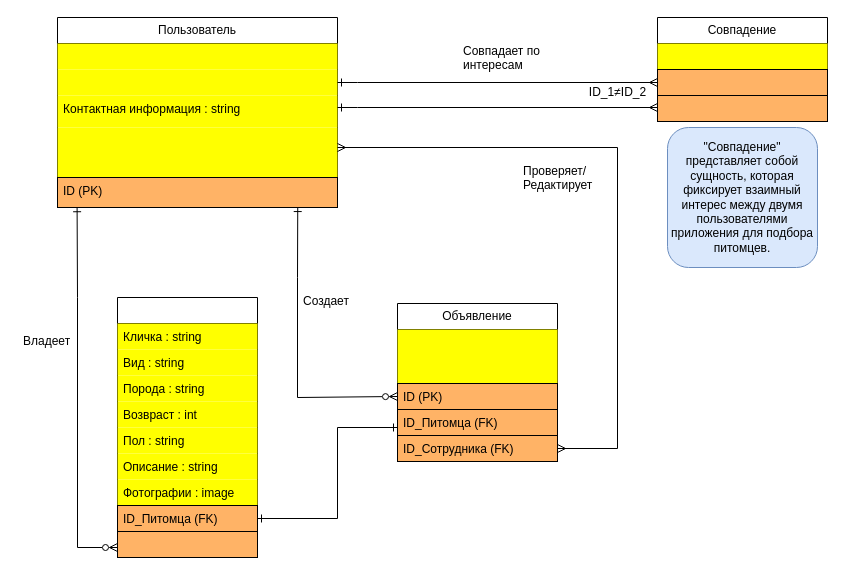
This 845x578 diagram has some shape labels left out. The box of each missing label's shape, as (x1, y1, x2, y2) in pixels:
ID_Владельца (FK): (116, 530, 258, 558)
ID_Пользователя1 (PK, FK): (656, 68, 828, 96)
ID_Пользователя2 (PK, FK): (656, 94, 828, 122)
Возраст : int: (57, 69, 337, 95)
Дата публикации : date Статус {Активно, Неактивно} : int: (397, 329, 557, 383)
Дата с овпадения : date: (657, 43, 827, 69)
Имя : string: (57, 43, 337, 69)
Питомец: (116, 296, 258, 558)
Роль (владелец с питомцем, владелец без питомца, сотрудник) : int: (57, 127, 337, 177)
